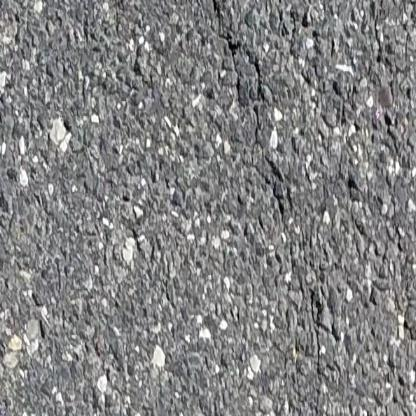Cracks: (203, 0, 289, 221), (307, 285, 325, 383), (400, 318, 416, 353)
